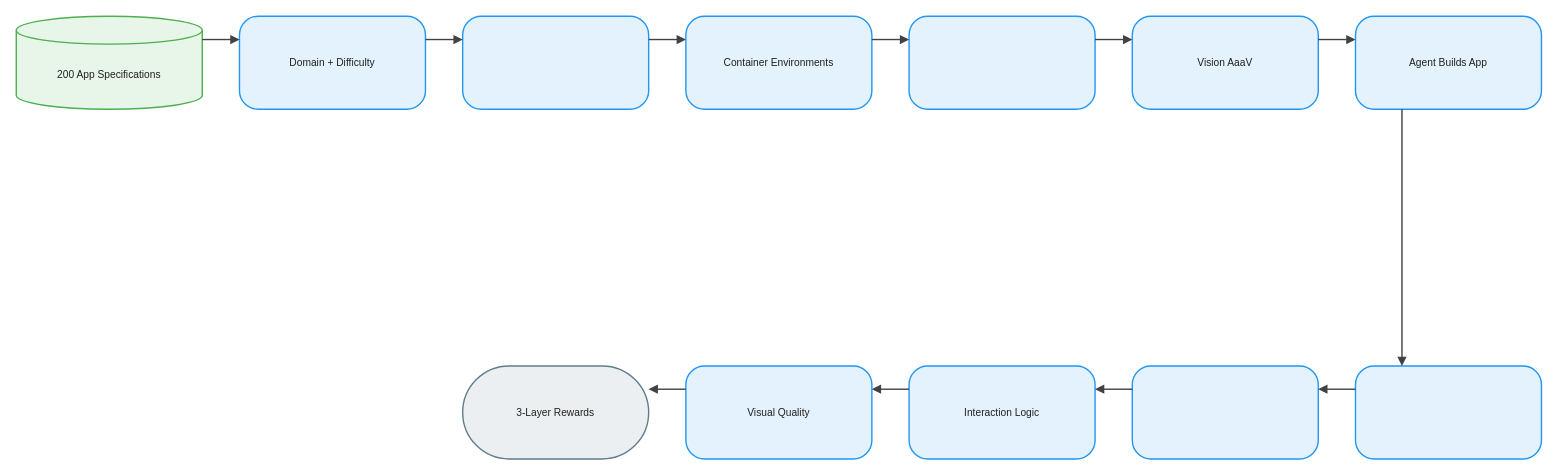
This 1559x476 diagram has some shape labels left out. The centre of each missing label's shape, as x and y in pixels:
"3 Evaluation Layers" belongs at point (1001, 62).
"5 Technology Stacks" belongs at point (555, 62).
"Compile / Build / Launch" belongs at point (1448, 412).
"Navigate Workflows" belongs at point (1225, 412).
